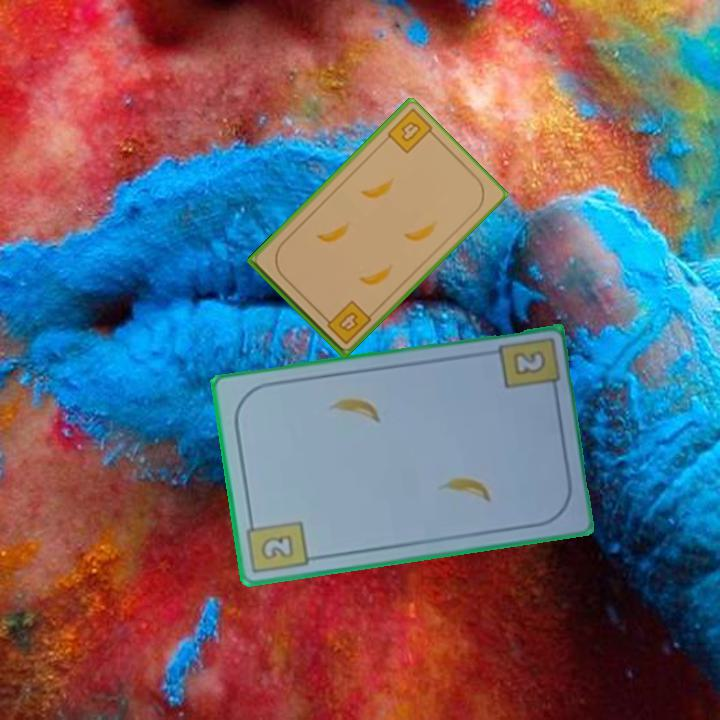2b: (244, 512, 312, 576), (509, 346, 549, 379)
4b: (319, 297, 374, 347), (397, 117, 424, 144)
